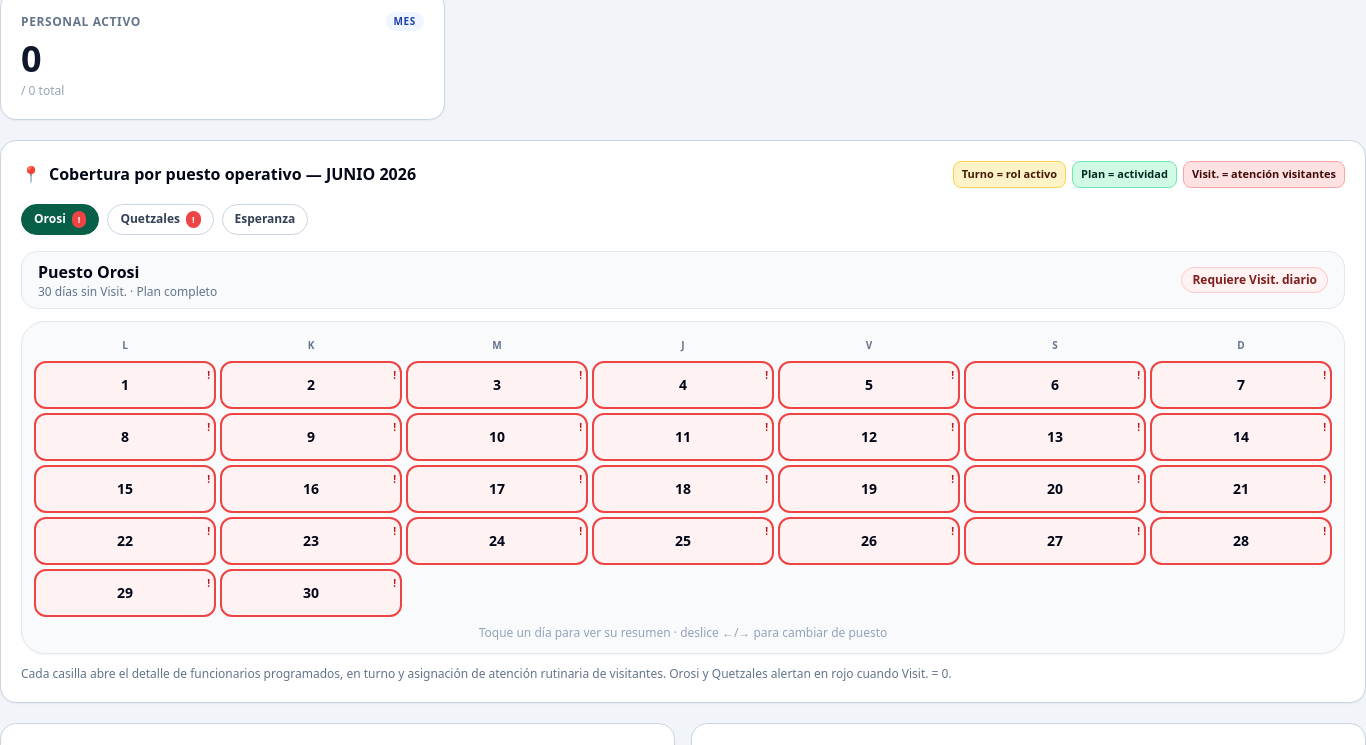
Scenario: Dashboard — mini-calendario de cobertura en móvil › tocar un día abre el panel con Turno/Plan/Visit. y botón de detalle
(page scrolled)
Click the button named "Resumen del día 5" at (869, 384), box x1=778 y1=360 x2=960 y2=408
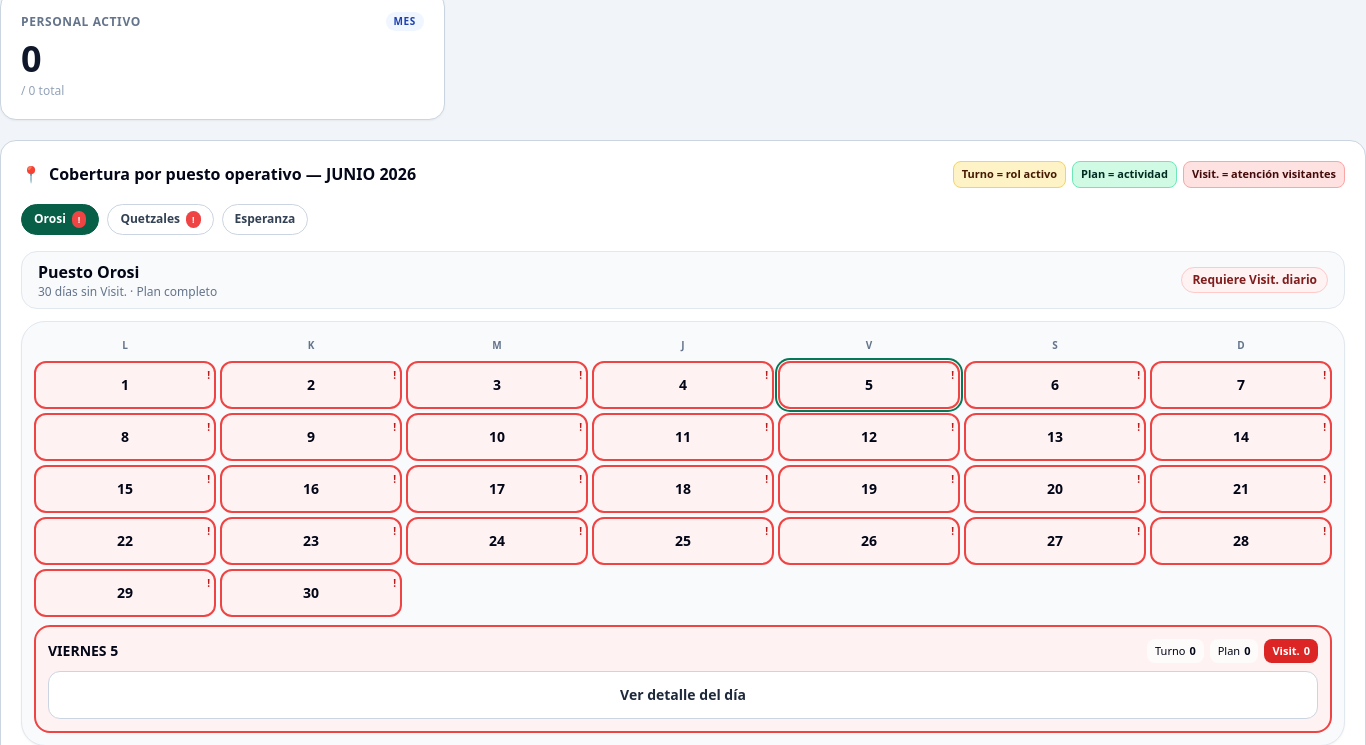
Now the button "Ver detalle del día" is shown, box x1=48 y1=671 x2=1318 y2=719
Now the text "Turno" is shown, box x1=1155 y1=642 x2=1185 y2=658
Now the text "Plan" is shown, box x1=1218 y1=642 x2=1240 y2=658
